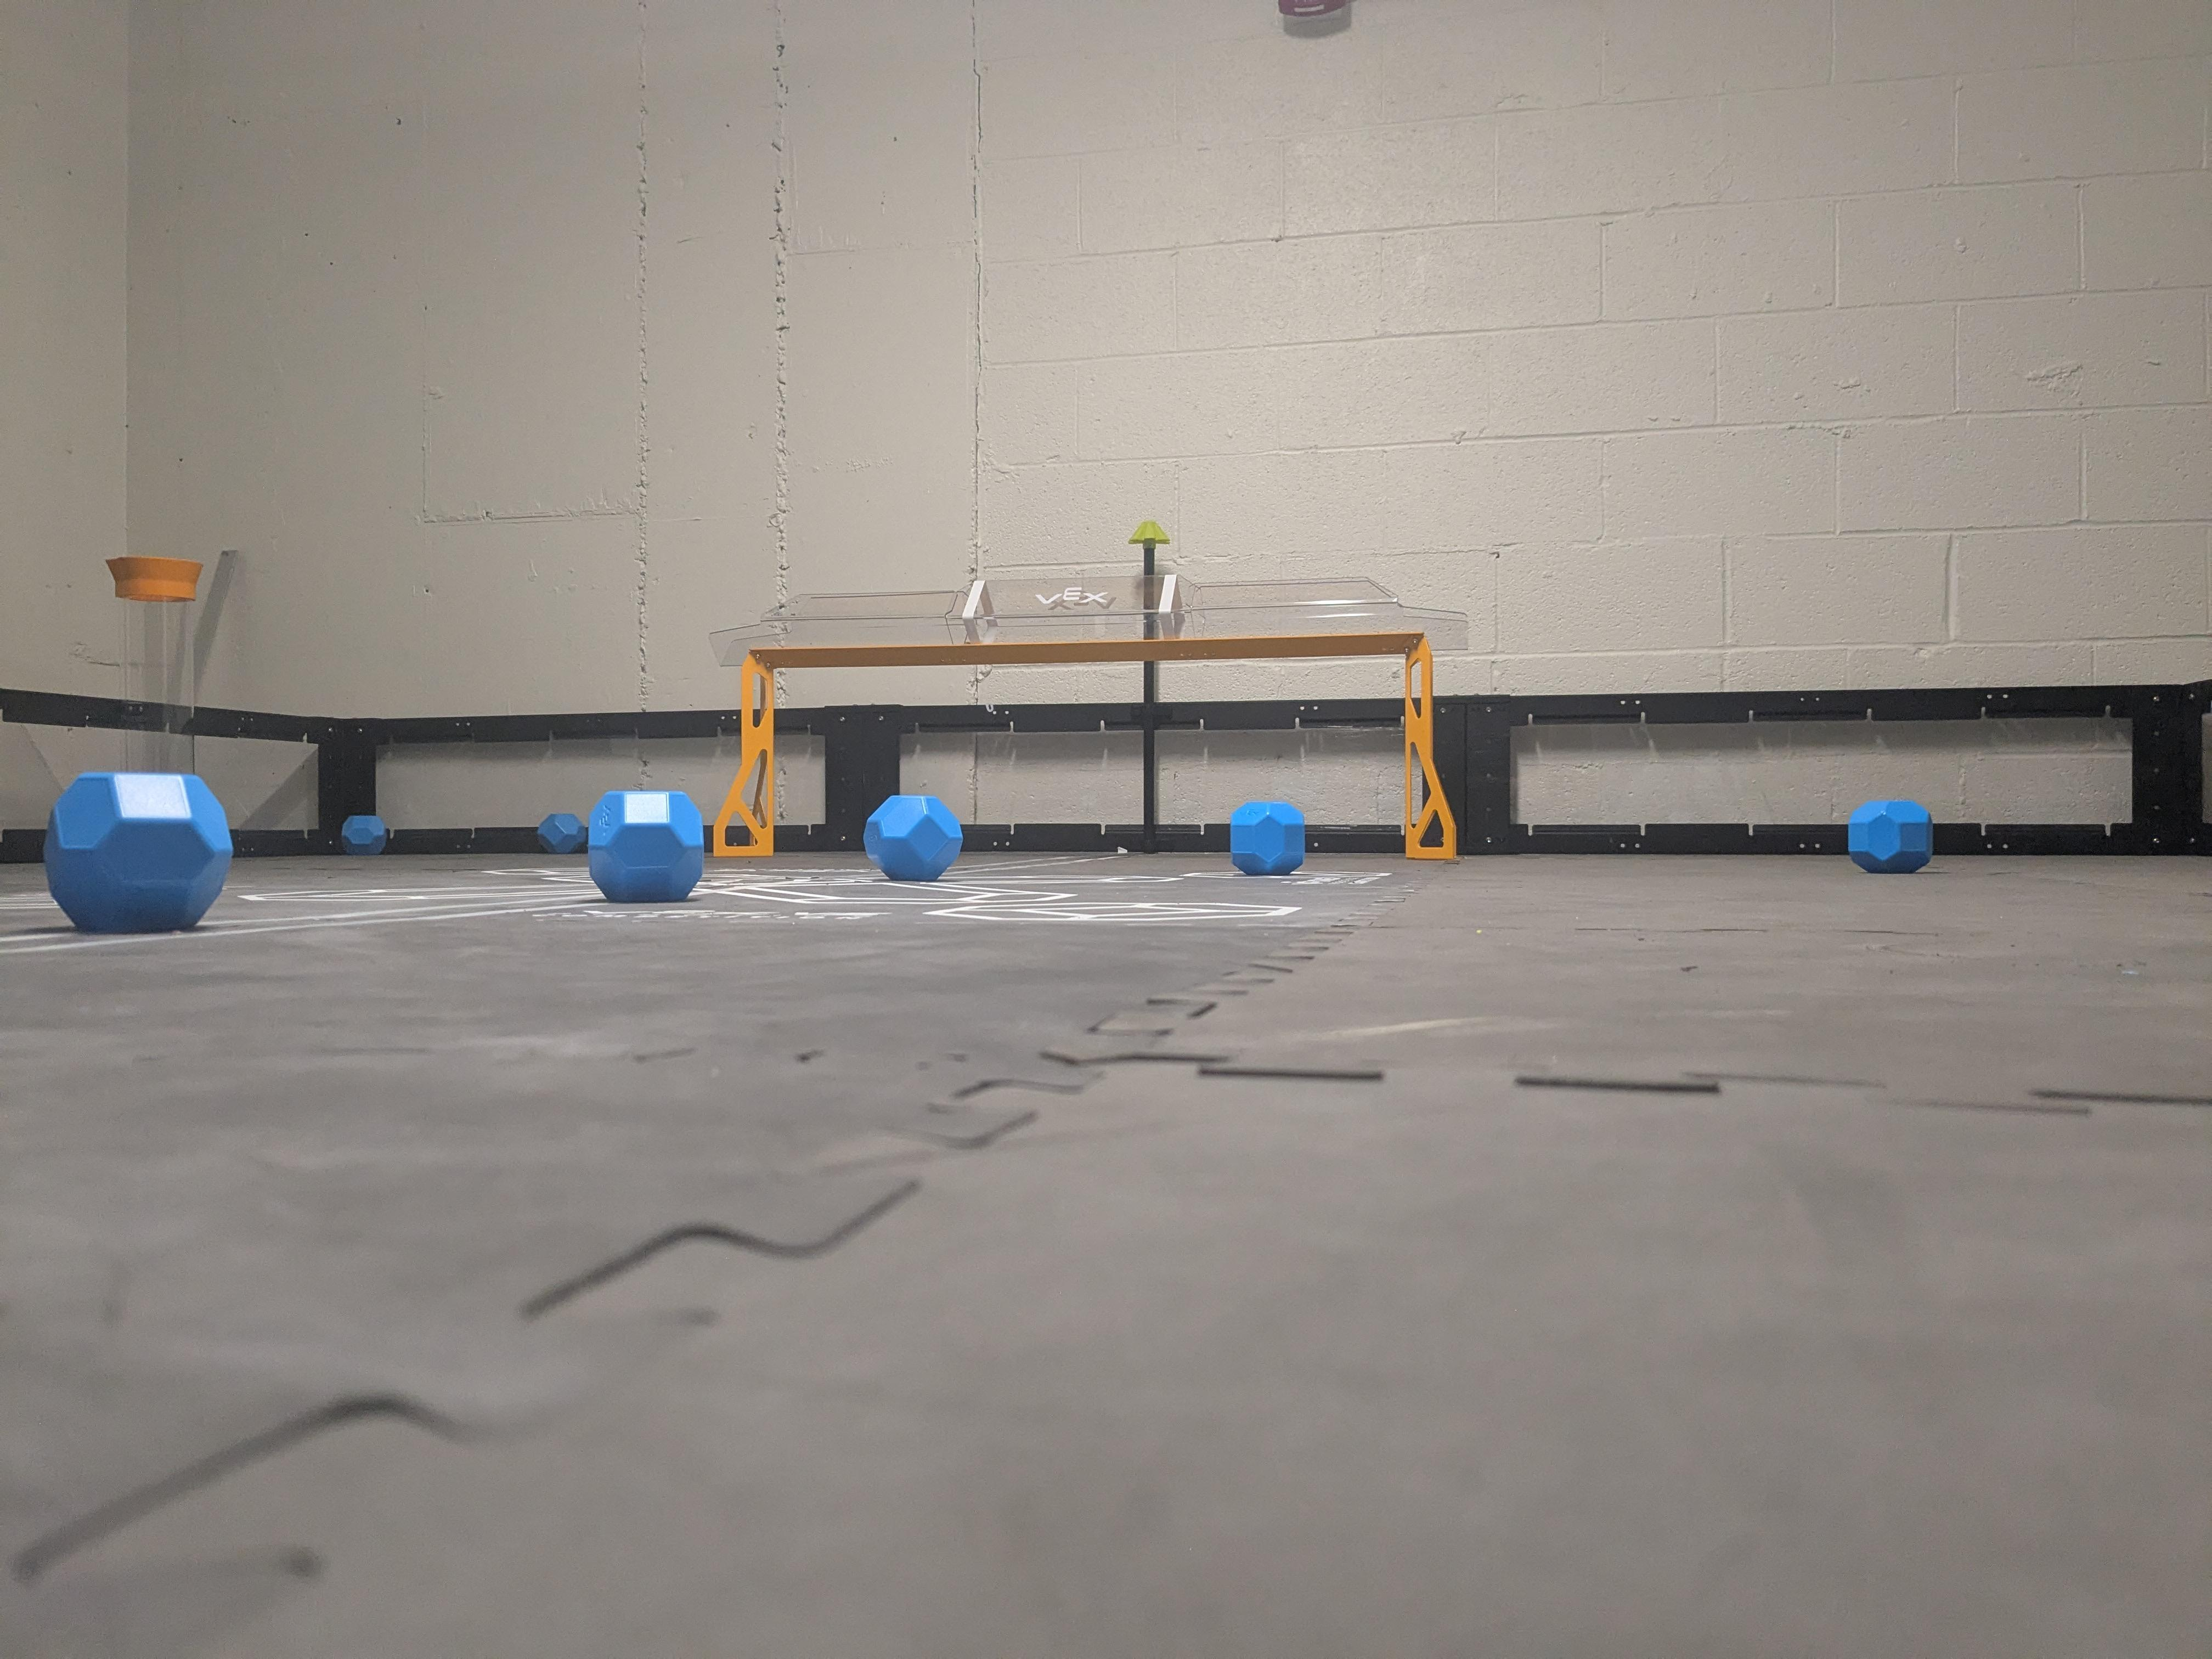Vex-Pieces-BLUE: (40, 774, 232, 931), (583, 793, 704, 899), (864, 795, 963, 878), (1846, 800, 1932, 870), (1230, 800, 1310, 873), (341, 814, 390, 856), (536, 814, 587, 854)
